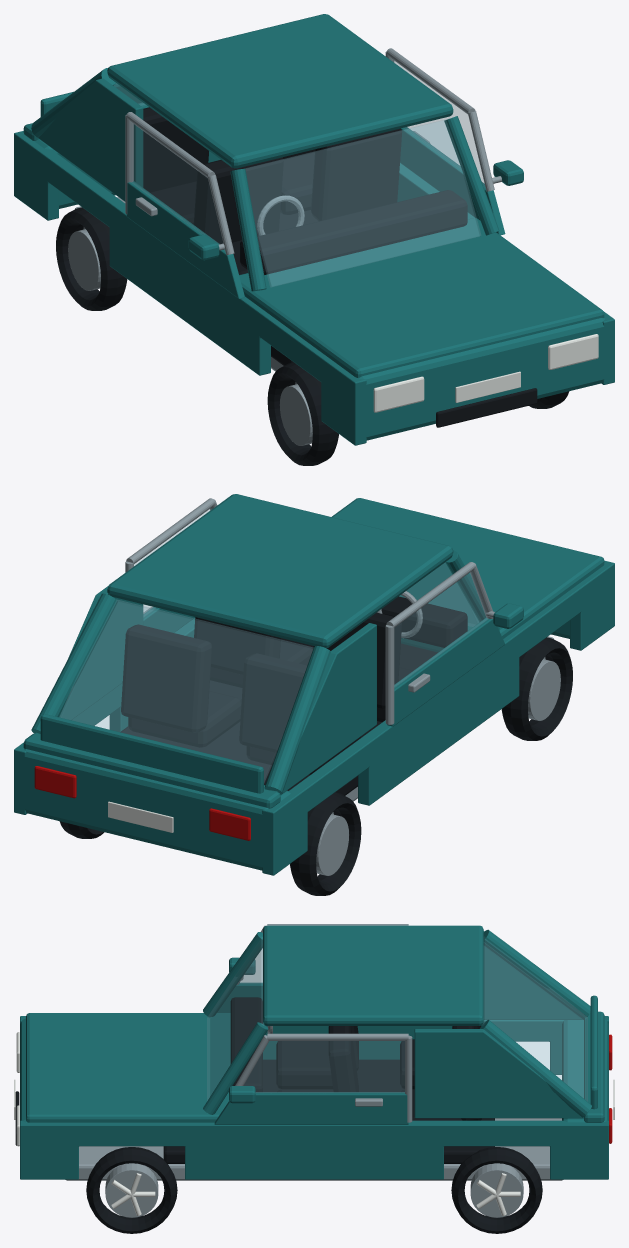
File: edited.glb
3 renders of one model, top to bottom at view 1: azimuth 30°, elevation 25°; view 2: azimuth 150°, elevation 25°; view 3: azimuth 270°, elevation 25°, orthographic. The views are drawn at different scales.
Visible parts, largest first — view 1: BONNET, ROOF, WINDSCREEN, BODY_WheelArchSill.001, BODY_Nose, DASHBOARD, REAR_Quarter.001, SEAT_Back.002, DOOR_ClearPane.001, SEAT_Back, DOOR_Lower.001, TYRE (+23 smaller); view 2: ROOF, HATCH_Glass, BODY_WheelArchSill.001, BONNET, BODY_Tail, SEAT_Back.003, REAR_Quarter.001, HATCH_Lower, DOOR_ClearPane.001, SEAT_Back.001, REAR_Quarter, DOOR_Lower.001 (+24 smaller); view 3: BODY_WheelArchSill, ROOF, BONNET, REAR_Quarter, HATCH_Glass, DOOR_ClearPane, DOOR_Lower, WINDSCREEN, BODY_WheelArchSill.001, REAR_Quarter.001, TYRE.002, TYRE.003 (+23 smaller).
Part boxes in pixels (box(x1,y1,x2,y2)): BONNET: box(239, 218, 604, 377); ROOF: box(107, 14, 453, 168); WINDSCREEN: box(245, 119, 480, 286); BODY_WheelArchSill.001: box(14, 131, 366, 445); BODY_Nose: box(358, 318, 604, 440); DASHBOARD: box(240, 190, 467, 274); REAR_Quarter.001: box(38, 78, 143, 201); SEAT_Back.002: box(311, 128, 401, 221); DOOR_ClearPane.001: box(131, 123, 224, 250); SEAT_Back: box(193, 157, 283, 243); DOOR_Lower.001: box(126, 181, 244, 298); TYRE: box(267, 362, 338, 465); ROOF: box(107, 494, 453, 647); HATCH_Glass: box(60, 600, 312, 782); BODY_WheelArchSill.001: box(262, 560, 614, 875); BONNET: box(332, 498, 604, 652); BODY_Tail: box(24, 748, 290, 870); SEAT_Back.003: box(121, 624, 211, 732); REAR_Quarter.001: box(270, 623, 376, 793); HATCH_Lower: box(40, 714, 263, 793); DOOR_ClearPane.001: box(394, 572, 488, 687); SEAT_Back.001: box(239, 653, 306, 752); REAR_Quarter: box(36, 586, 143, 734); DOOR_Lower.001: box(387, 618, 505, 726); BODY_WheelArchSill: box(20, 1120, 608, 1179); ROOF: box(263, 925, 483, 1025); BONNET: box(26, 1013, 230, 1122); REAR_Quarter: box(414, 1029, 583, 1118); HATCH_Glass: box(483, 937, 587, 1101); DOOR_ClearPane: box(244, 1041, 404, 1092); DOOR_Lower: box(214, 1092, 408, 1124); WINDSCREEN: box(207, 937, 263, 1100); BODY_WheelArchSill.001: box(20, 1016, 608, 1074); REAR_Quarter.001: box(483, 931, 581, 1019); TYRE.002: box(86, 1147, 177, 1233); TYRE.003: box(451, 1147, 542, 1233).
Bounding box in the file's own units: 2.18 × 1.59 × 4.08.
